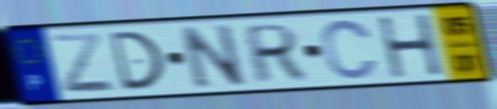C: (319, 17, 381, 82)
D: (105, 28, 167, 94)
H: (375, 11, 447, 81)
N: (176, 21, 249, 91)
R: (243, 21, 308, 86)
Z: (49, 31, 119, 95)
